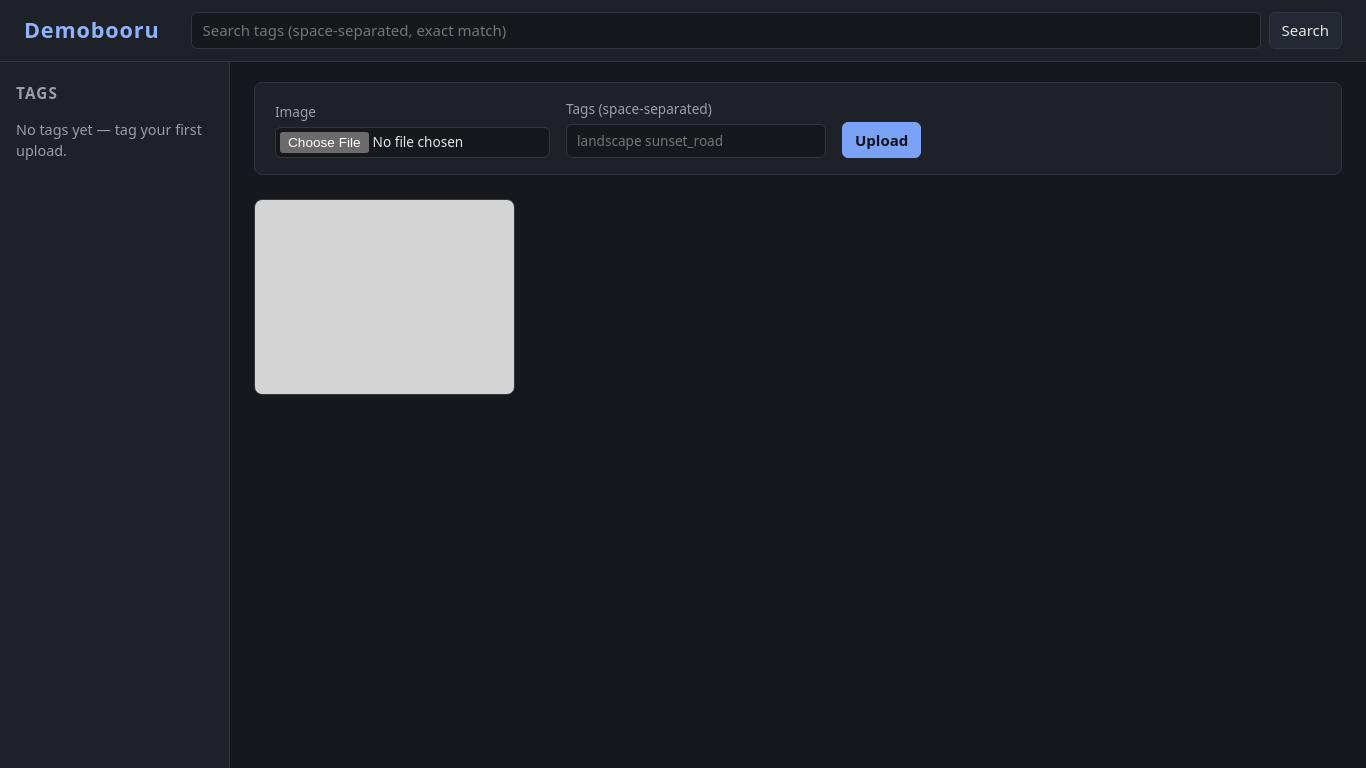
Test: search › submits space-separated tags and shows the active query
Type "cat dog" into the field labelled "Search tags". click: (726, 30)
box: [192,12,1260,48]
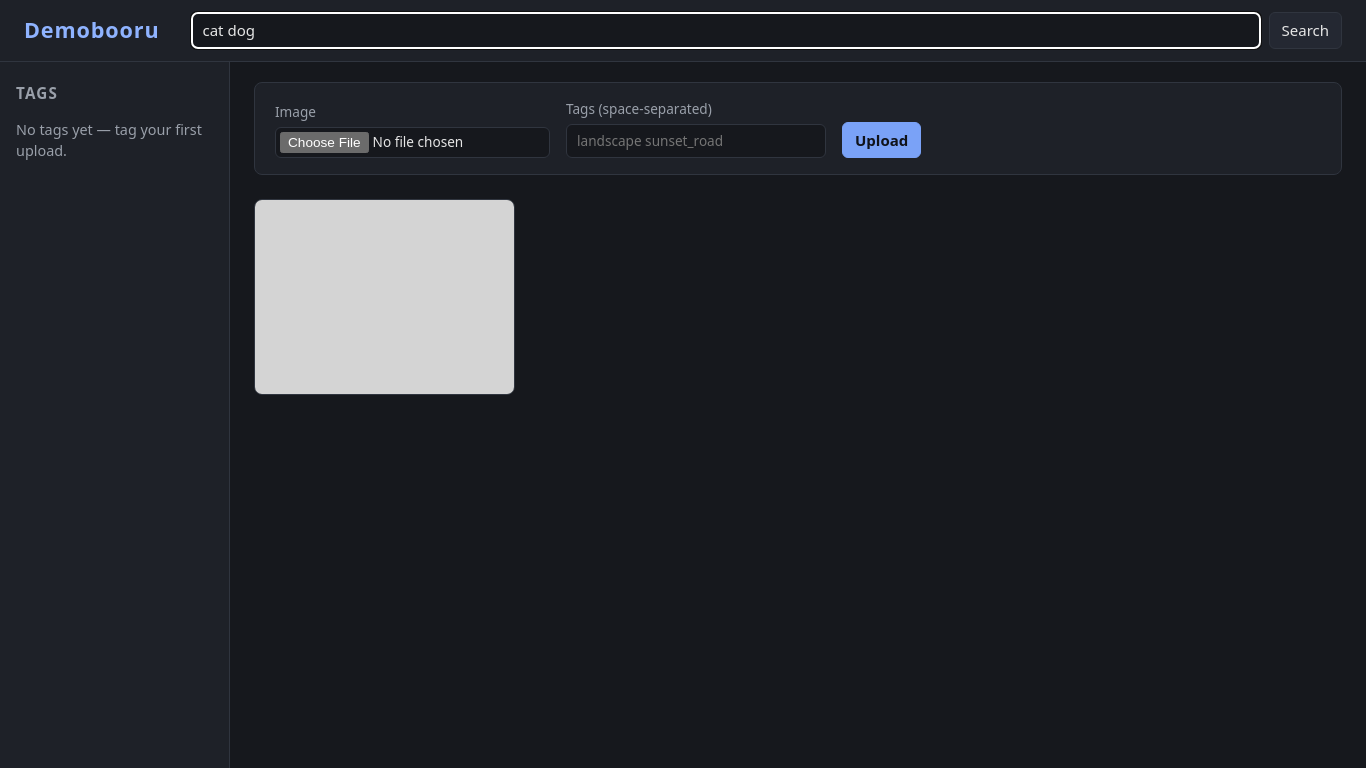
Click the button "Search". click: (1305, 30)
box: [1268,12,1342,48]
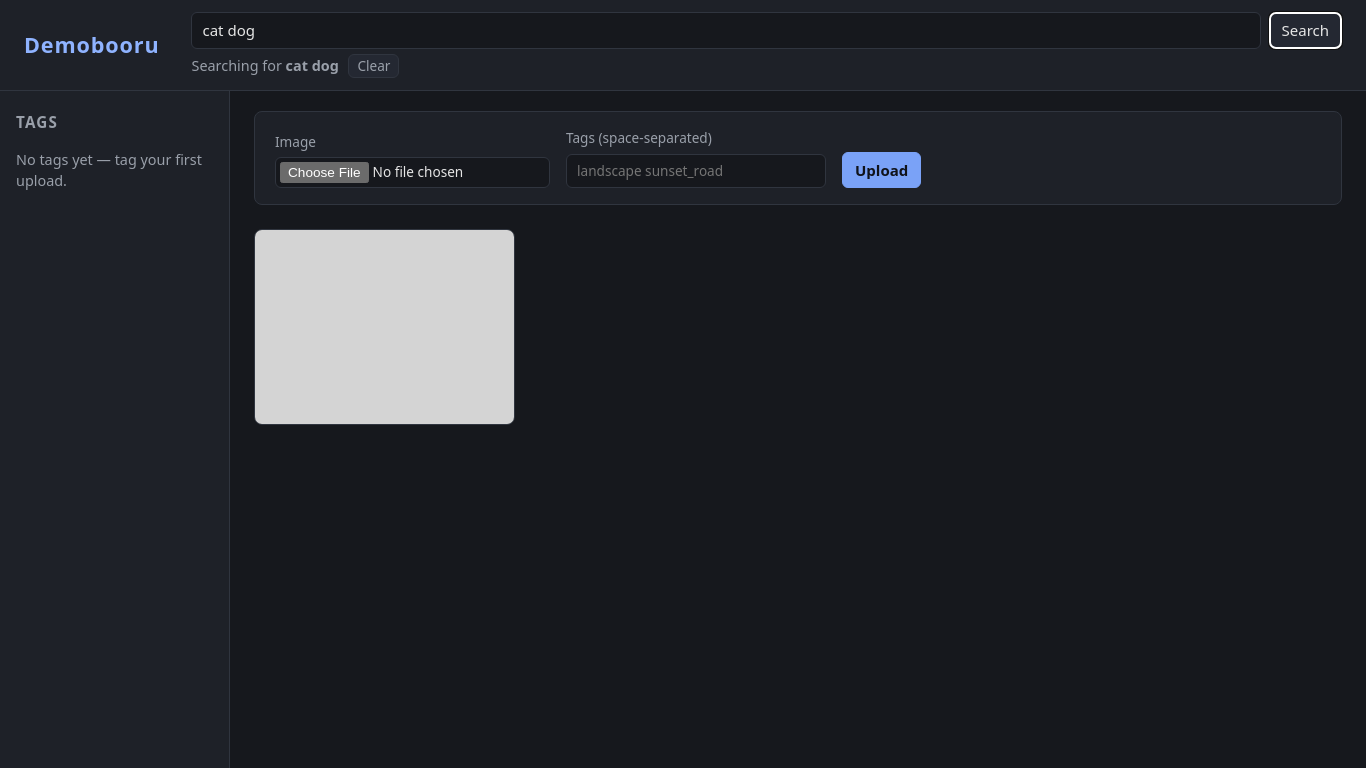
Expected: the text "cat dog" is shown, [286,56,339,75]
